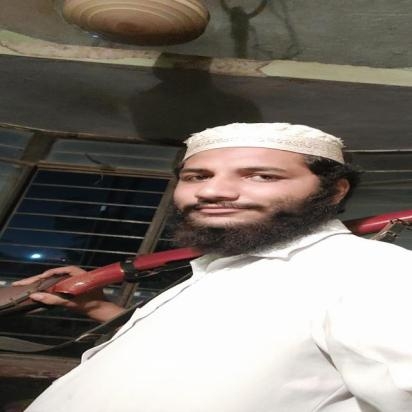Gun: (0, 209, 412, 315)
